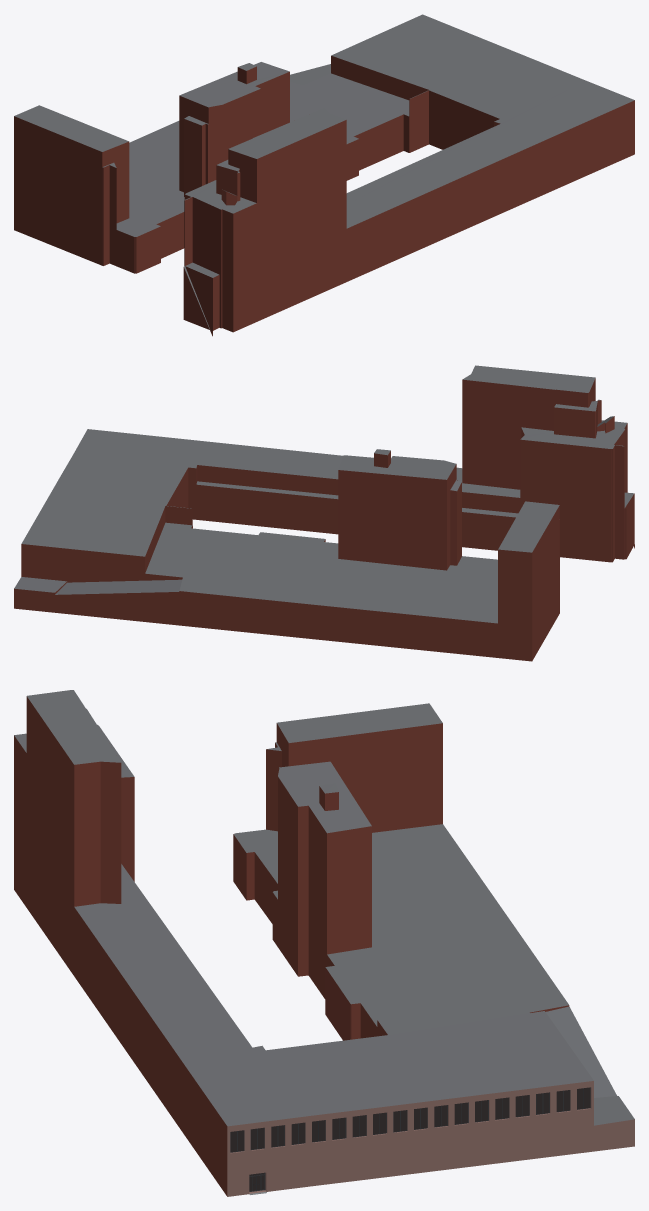
Rendered from recipe-large-asterweg-19-134024.glb.
3 renders of one model, top to bottom at view 1: azimuth 30°, elevation 25°; view 2: azimuth 150°, elevation 25°; view 3: azimuth 270°, elevation 25°, orthographic. The views are drawn at different scales.
Parts seen in each view (by area): view 1: asterweg-19-134024; view 2: asterweg-19-134024; view 3: asterweg-19-134024.
Boxes of the visible parts, x1=… form: asterweg-19-134024: x1=14, y1=14, x2=634, y2=336; asterweg-19-134024: x1=14, y1=365, x2=634, y2=661; asterweg-19-134024: x1=14, y1=690, x2=634, y2=1196.
Bounding box in the file's own units: 116 × 34.2 × 87.92.
